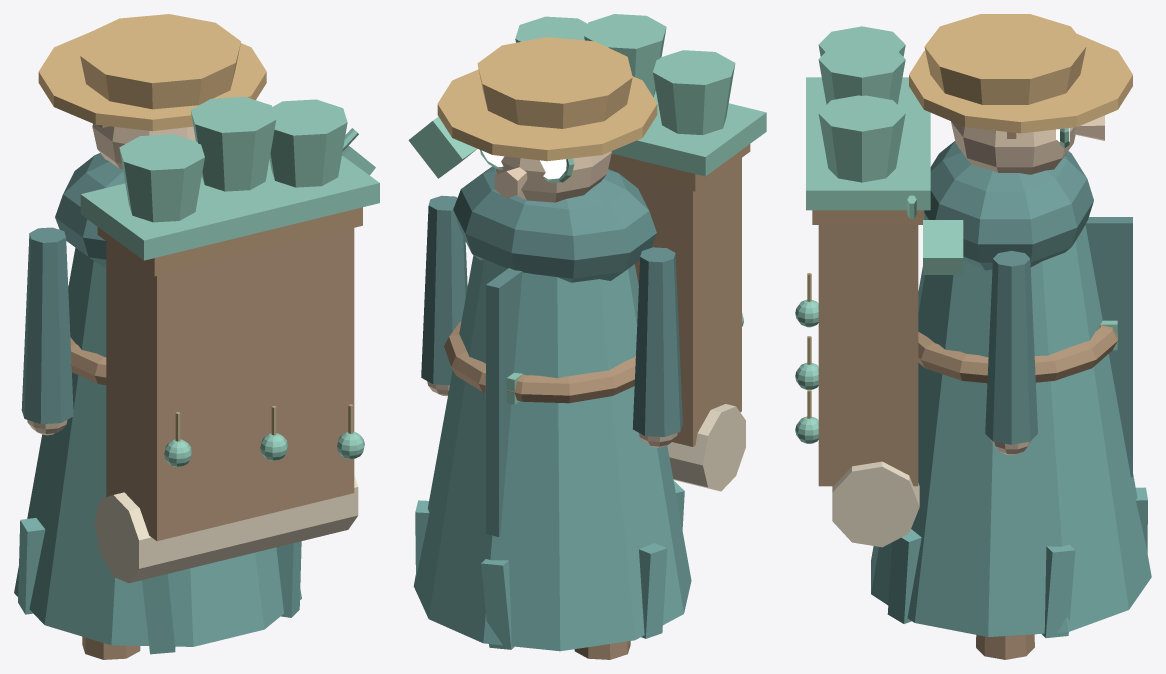
The model's file is sella_vane.glb.
The picture shows the model from 3 angles, left to right: view 1: azimuth 30°, elevation 25°; view 2: azimuth 150°, elevation 25°; view 3: azimuth 270°, elevation 25°; orthographic projection. The views are drawn at different scales.
Visible parts, largest first — view 1: Pack, Body, ArmL, LegL; view 2: Body, Pack, ArmL, ArmR, LegL; view 3: Body, Pack, ArmR, LegR.
Boxes of the visible parts, bbox=[...] form: Pack: bbox=[80, 96, 379, 583]; Body: bbox=[14, 14, 301, 654]; ArmL: bbox=[21, 227, 73, 435]; LegL: bbox=[82, 636, 140, 659]; Body: bbox=[413, 37, 691, 651]; Pack: bbox=[408, 14, 766, 491]; ArmL: bbox=[632, 247, 682, 447]; ArmR: bbox=[421, 195, 467, 396]; LegL: bbox=[574, 641, 630, 659]; Body: bbox=[871, 14, 1151, 638]; Pack: bbox=[795, 26, 963, 547]; ArmR: bbox=[985, 250, 1037, 455]; LegR: bbox=[976, 634, 1034, 659].
Size of the model in its own units: 1.12 by 2.05 by 1.15.
